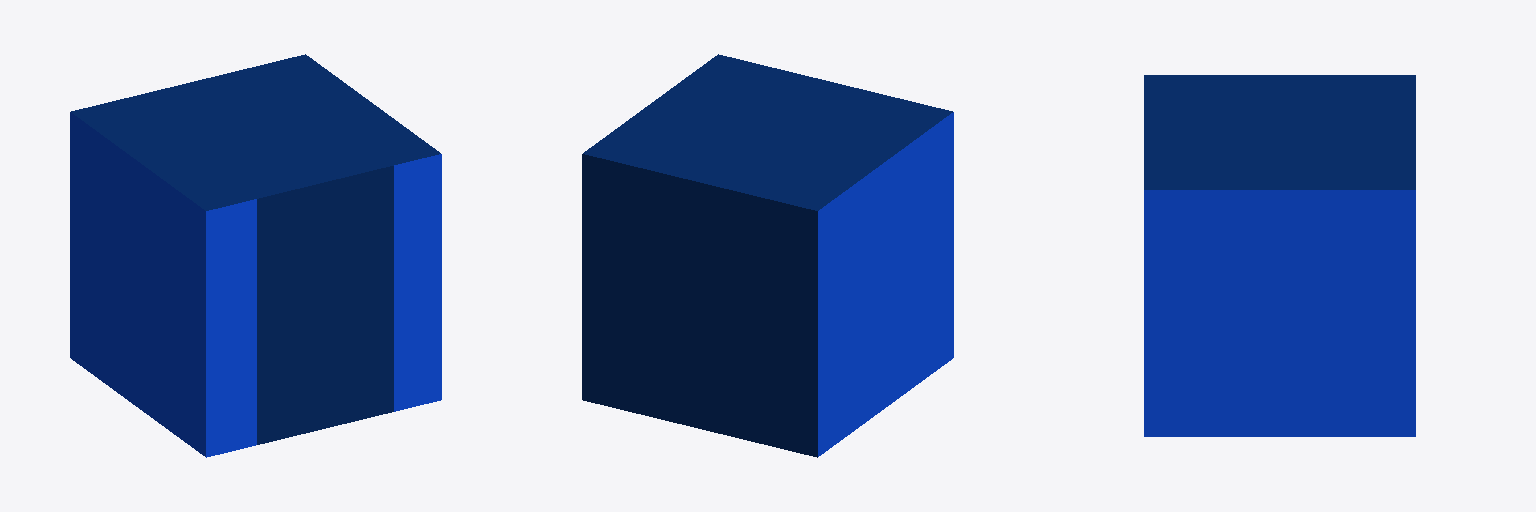
3 views of the same model, side by side, from view 1: azimuth 30°, elevation 25°; view 2: azimuth 150°, elevation 25°; view 3: azimuth 270°, elevation 25° (orthographic).
Visible parts, largest first — view 1: Cube; view 2: Cube; view 3: Cube.
Part boxes in pixels (bbox=[...]): Cube: bbox=[70, 54, 441, 457]; Cube: bbox=[582, 54, 953, 457]; Cube: bbox=[1144, 75, 1415, 436].
Size of the model in its own units: 2 by 2 by 2.
1 materials, 1 textured.